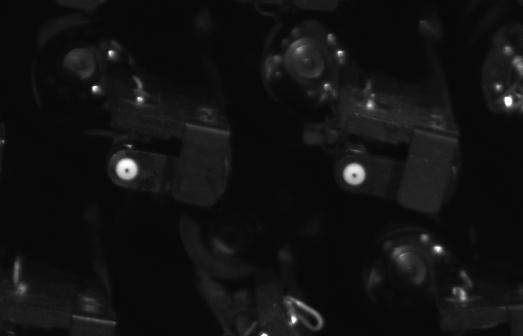fiber: (108, 150, 149, 189), (335, 159, 372, 193)
